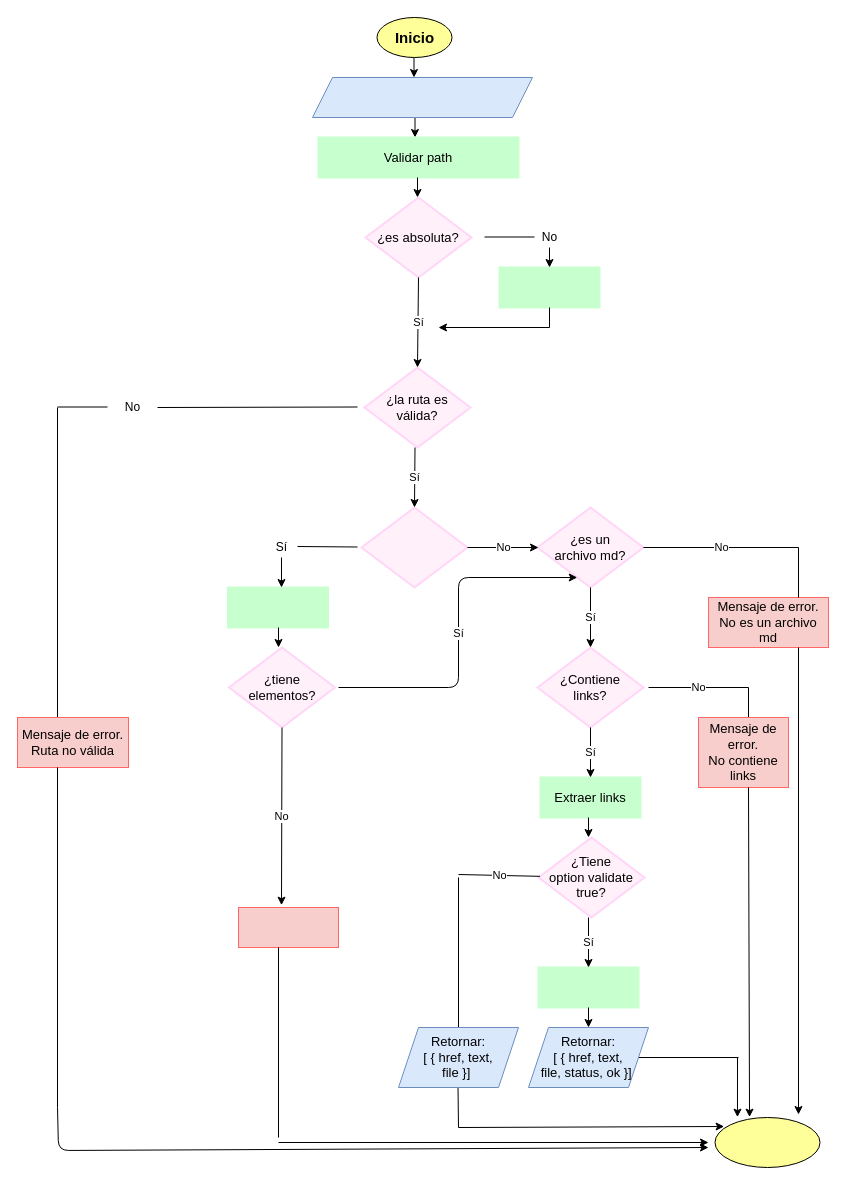
The diagram is 846 pixels wide and 1185 high, and some of its shapes have lost their labels. Each missing label, with the centre of its shape:
"Convertir a ruta absoluta" goes at [549,287].
"Fin" goes at [767,1142].
"Ingresar mdLinks(path, options)" goes at [422,97].
"Mensaje de error. Directorio vacío" goes at [288,927].
"Recorrer el directorio" goes at [277,607].
"Validar cada link" goes at [588,987].
"¿es un directorio?" goes at [414,547].
